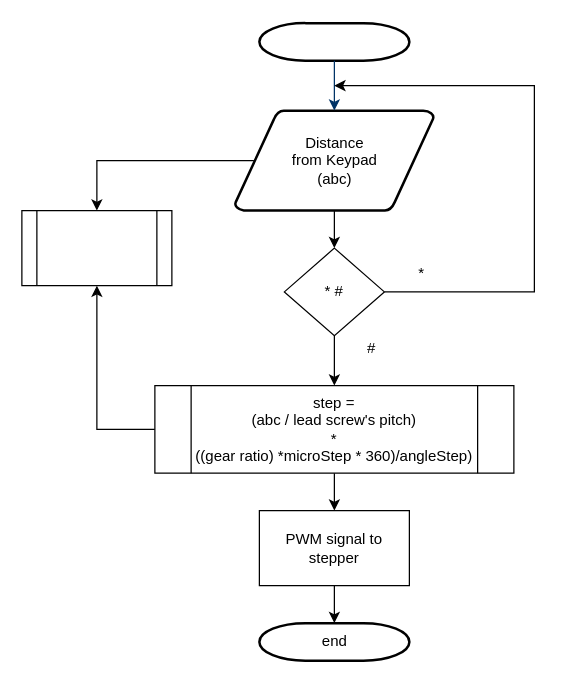
Image size: 566x683. Some labels were removed from this diagram. Here are the shapes that lost their labels. From the top down, the centre of each, then its label:
At (334,41): "start".
At (96,247): "print to LCD".
